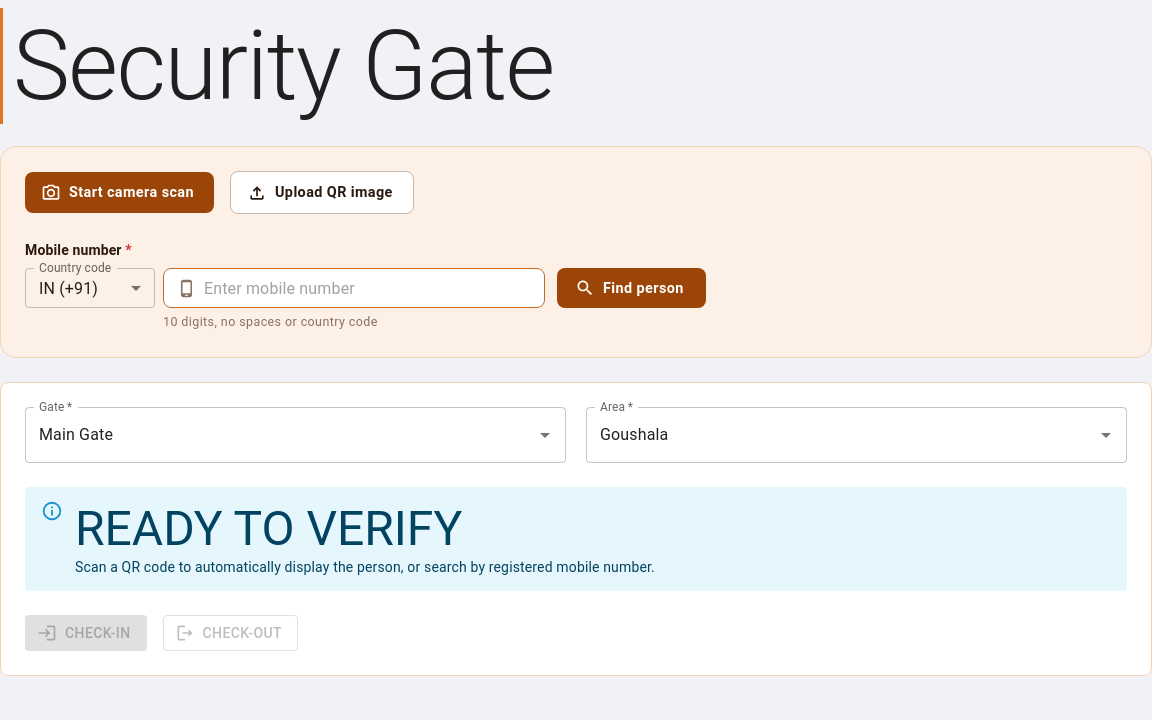
Test: automatically displays the detected person and photo before camera shutdown finishes
Click the button "Start camera scan" at (120, 193), box [25,172,214,213]
(page scrolled)
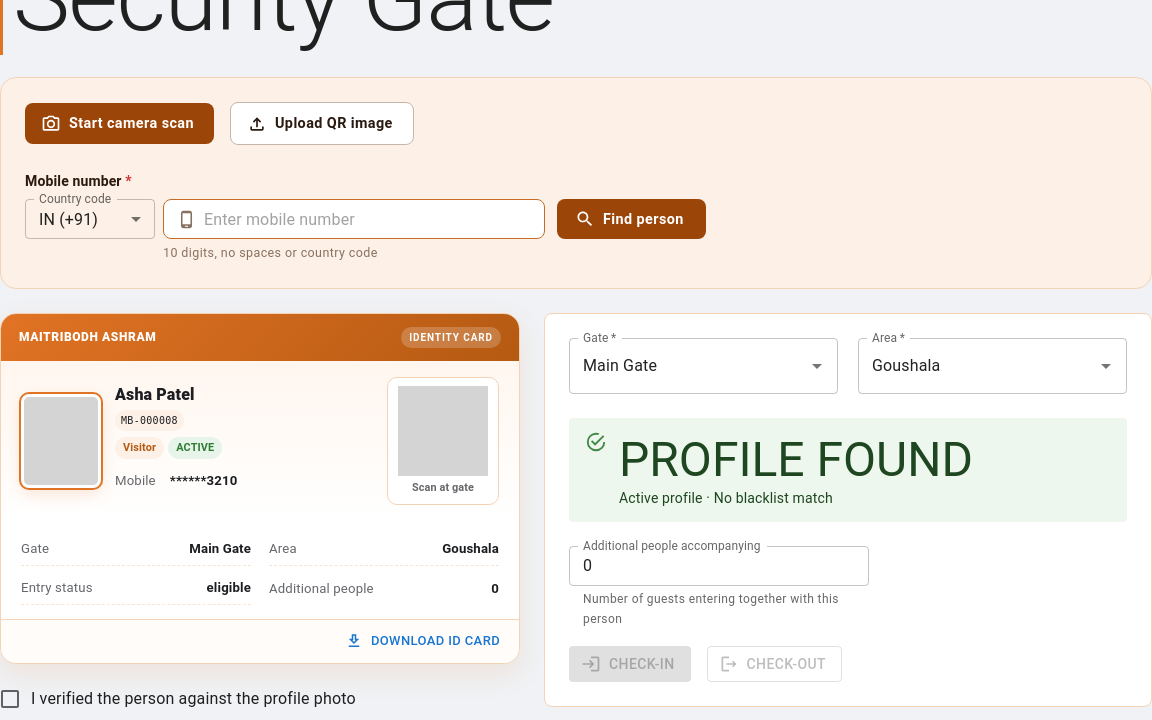
Expected: the text "Asha Patel" is shown, [115,385,195,404]
Expected: the text "MB-000008" is shown, [115,410,184,431]
Expected: the text "******3210" is shown, [170,472,238,491]
